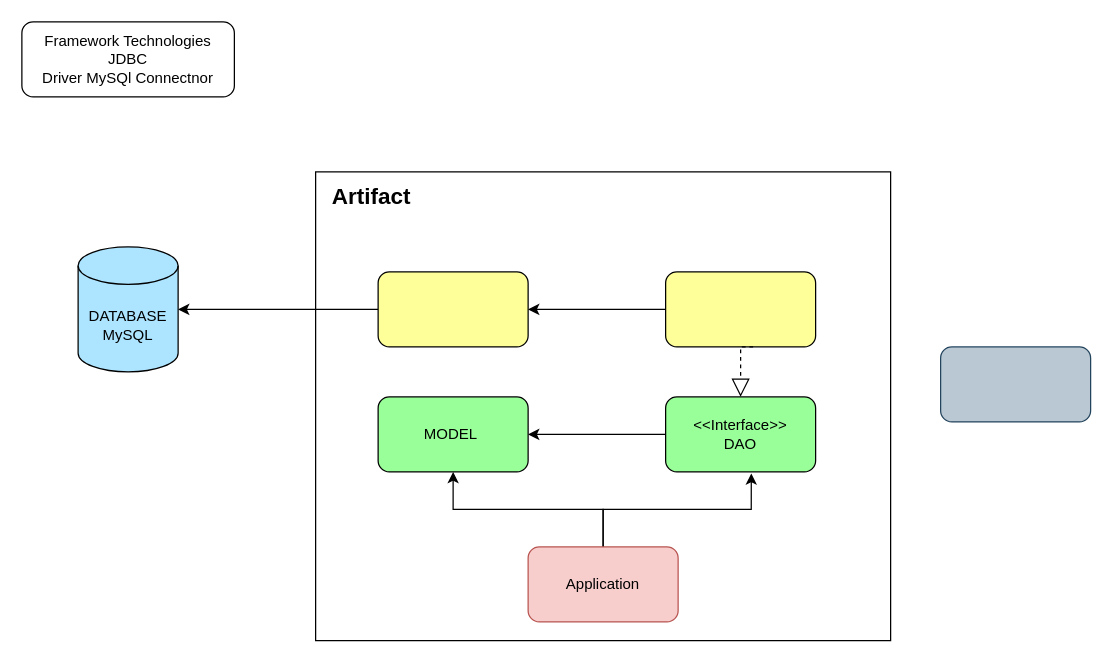
Image size: 1113x663. Some labels were removed from this diagram. Each missing label, with the centre of its shape:
"Connection Framework" goes at point 452,309.
"DAO IMPL" goes at point 740,309.
"Instanciação da classe concreta pelo DaoFactory" goes at point 1015,384.
